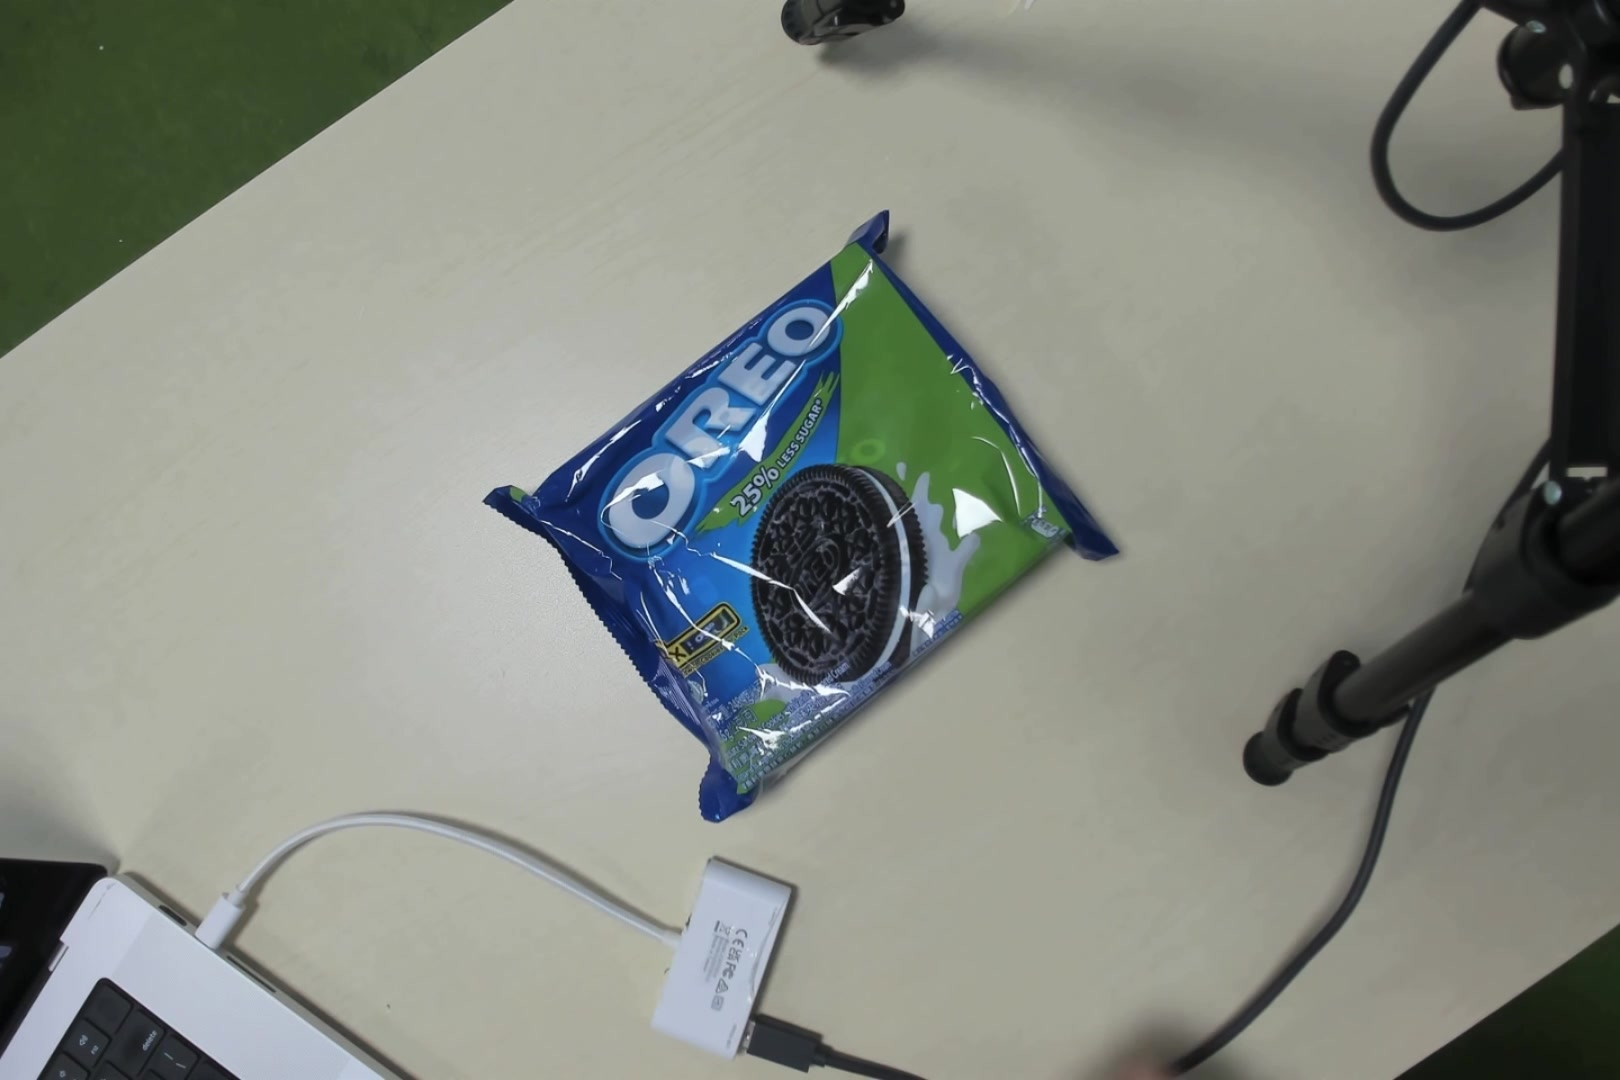SweetsChocolatesOthers_200-299g_Halal_NonHealthy: (565, 265, 1045, 771)
